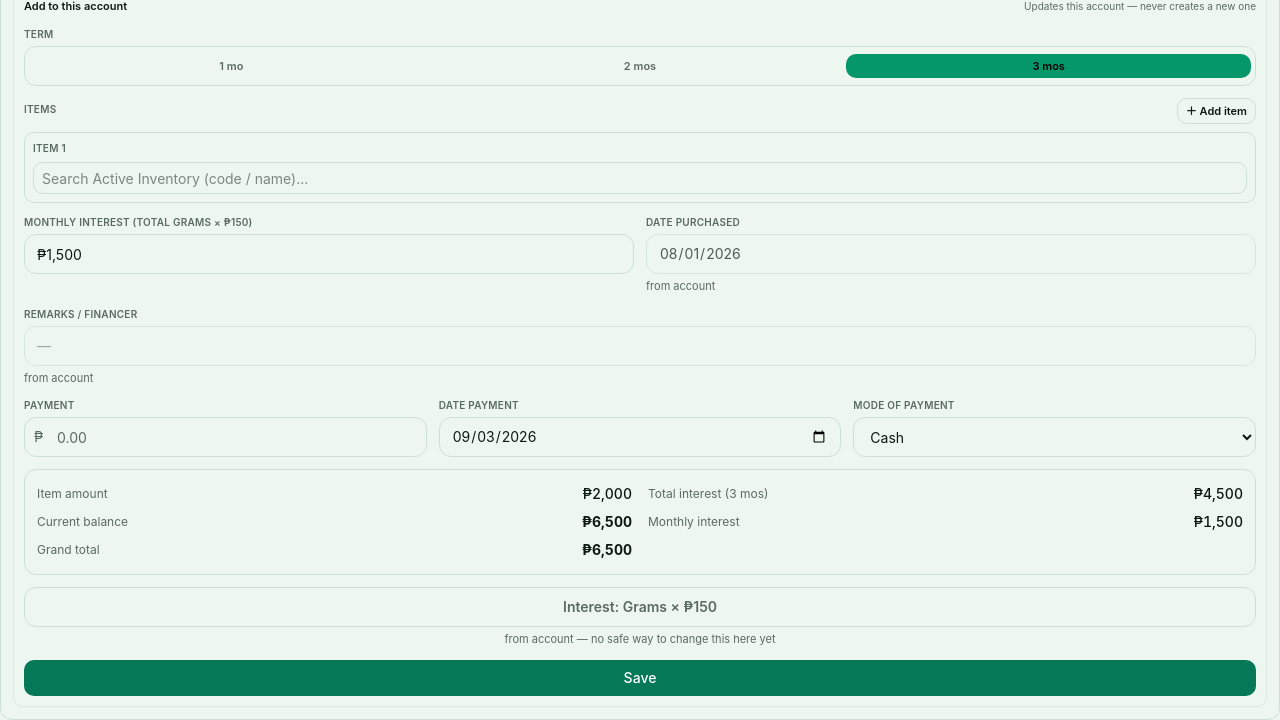
Test: LayawayEditItems — Edit Items (Owner / Admin) › does nothing to save with no item, term change, or payment
(page scrolled)
Click the button with test id "layaway-edit-items-save" at (640, 678), box 24,660 -> 1256,696
(page scrolled)
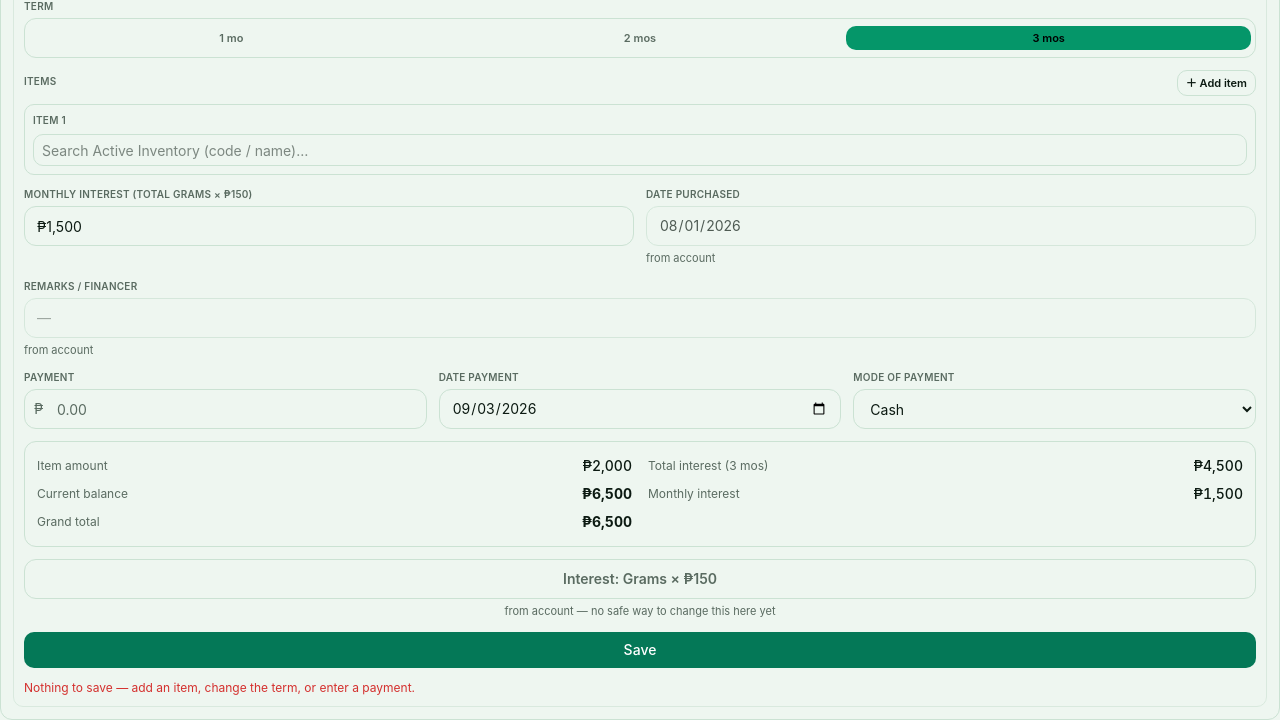
expect the message "Nothing to save — add an item, change the term, or enter a payment." is shown: met, box 24,680 -> 415,695
